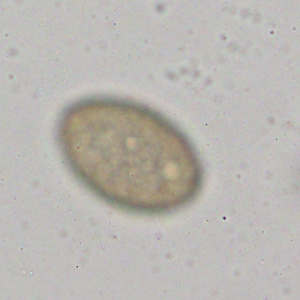Fasciola_hepatica_egg: (57, 95, 205, 213)
